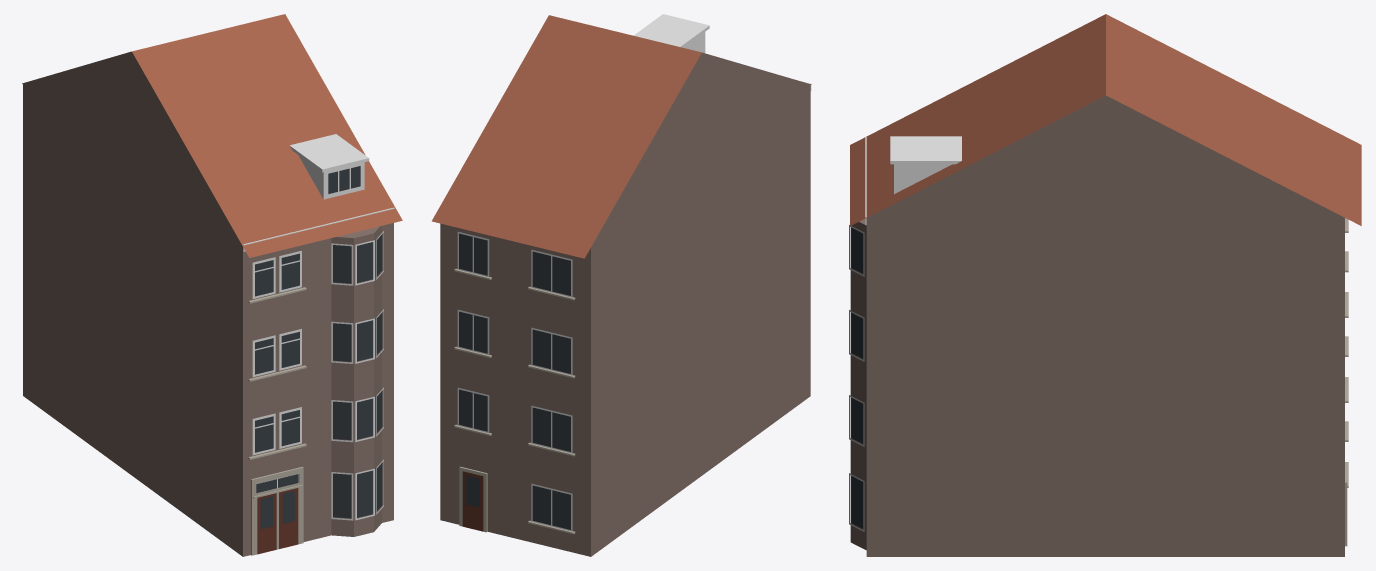
Rendered from we-pk-bay__brown__4__gable__long__solid__f0d1__mirror.glb.
The picture shows the model from 3 angles, left to right: view 1: azimuth 30°, elevation 25°; view 2: azimuth 150°, elevation 25°; view 3: azimuth 270°, elevation 25°; orthographic projection. The views are drawn at different scales.
Parts seen in each view (by area): view 1: we-pk-bay__brown__4__gable__long__solid__f0d1__mirror; view 2: we-pk-bay__brown__4__gable__long__solid__f0d1__mirror; view 3: we-pk-bay__brown__4__gable__long__solid__f0d1__mirror.
Boxes of the visible parts, x1=… form: we-pk-bay__brown__4__gable__long__solid__f0d1__mirror: x1=22, y1=14, x2=402, y2=556; we-pk-bay__brown__4__gable__long__solid__f0d1__mirror: x1=432, y1=14, x2=811, y2=556; we-pk-bay__brown__4__gable__long__solid__f0d1__mirror: x1=849, y1=14, x2=1361, y2=556.
Bounding box in the file's own units: 6.36 × 16.84 × 16.96.
